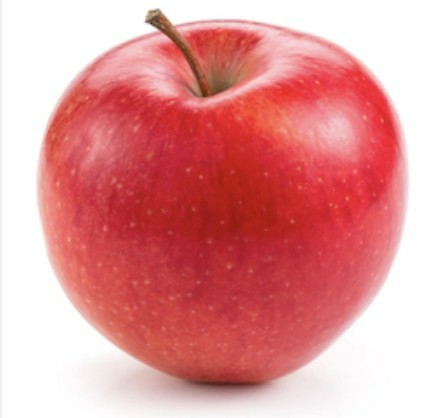fresh_apple: (38, 22, 416, 389)
